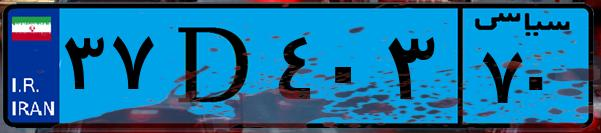0: (330, 28, 385, 110), (525, 38, 570, 115)
3: (385, 28, 445, 110), (57, 26, 110, 100)
4: (270, 28, 330, 110)
7: (475, 38, 525, 113), (110, 28, 158, 98)
D: (158, 12, 270, 120)
